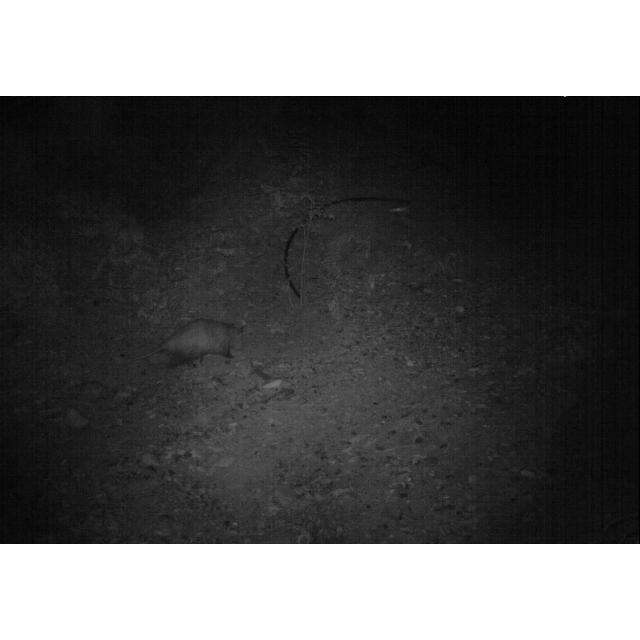animals: (151, 318, 243, 368)
